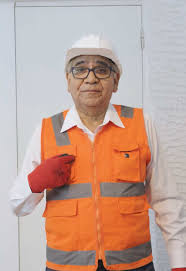Casco de seguridad: (65, 34, 121, 74)
